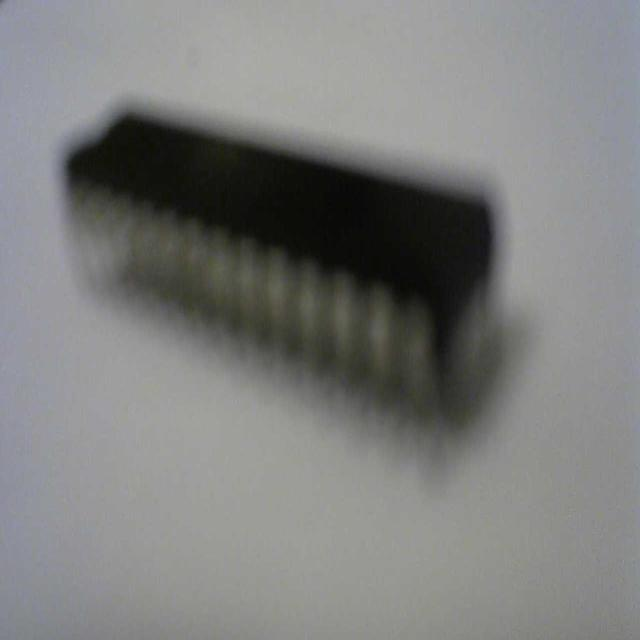atmega: (61, 98, 507, 446)
